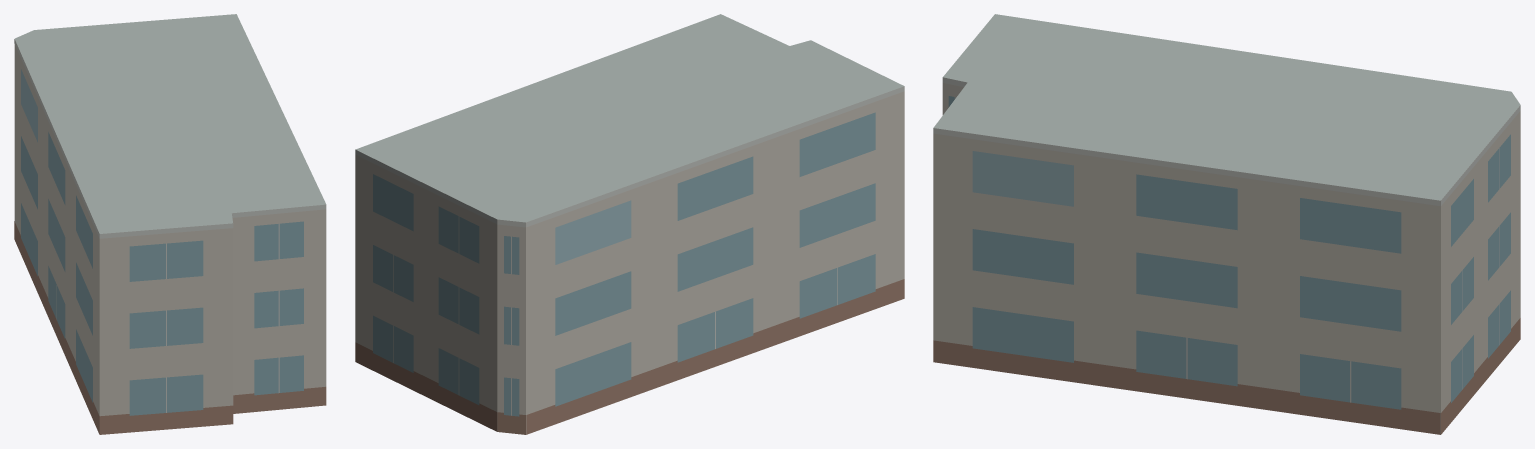
The model's file is survey-upis-32540948.glb.
3 views of the same model, side by side, from view 1: azimuth 30°, elevation 25°; view 2: azimuth 150°, elevation 25°; view 3: azimuth 270°, elevation 25° (orthographic). The views are drawn at different scales.
Parts seen in each view (by area): view 1: survey-upis-32540948.tmp; view 2: survey-upis-32540948.tmp; view 3: survey-upis-32540948.tmp.
Part boxes in pixels (bbox=[...]): survey-upis-32540948.tmp: bbox=[14, 14, 326, 434]; survey-upis-32540948.tmp: bbox=[355, 14, 904, 434]; survey-upis-32540948.tmp: bbox=[933, 14, 1520, 434].
Bounding box in the file's own units: 17.73 × 10.36 × 23.56.
